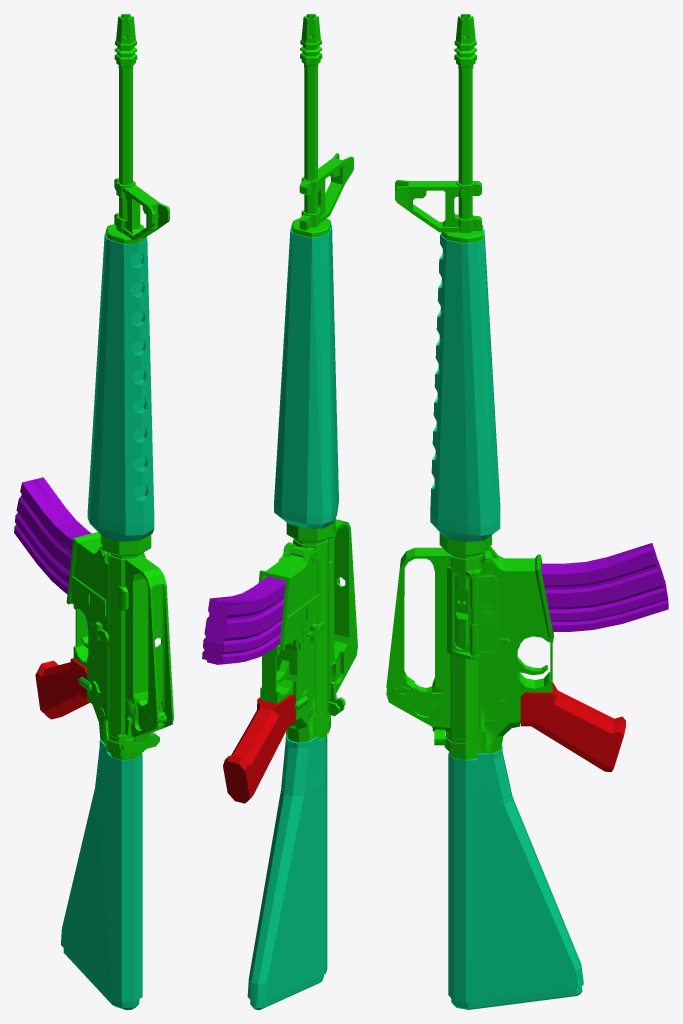
3 views of the same model, side by side, from view 1: azimuth 30°, elevation 25°; view 2: azimuth 150°, elevation 25°; view 3: azimuth 270°, elevation 25° (orthographic). The views are drawn at different scales.
Visible parts, largest first — view 1: Cube.004; view 2: Cube.004; view 3: Cube.004.
Boxes of the visible parts, x1=… form: Cube.004: x1=14, y1=14, x2=173, y2=1009; Cube.004: x1=202, y1=14, x2=357, y2=1009; Cube.004: x1=386, y1=14, x2=668, y2=1009.
Size of the model in its own units: 3.91 by 64.15 by 16.59.
